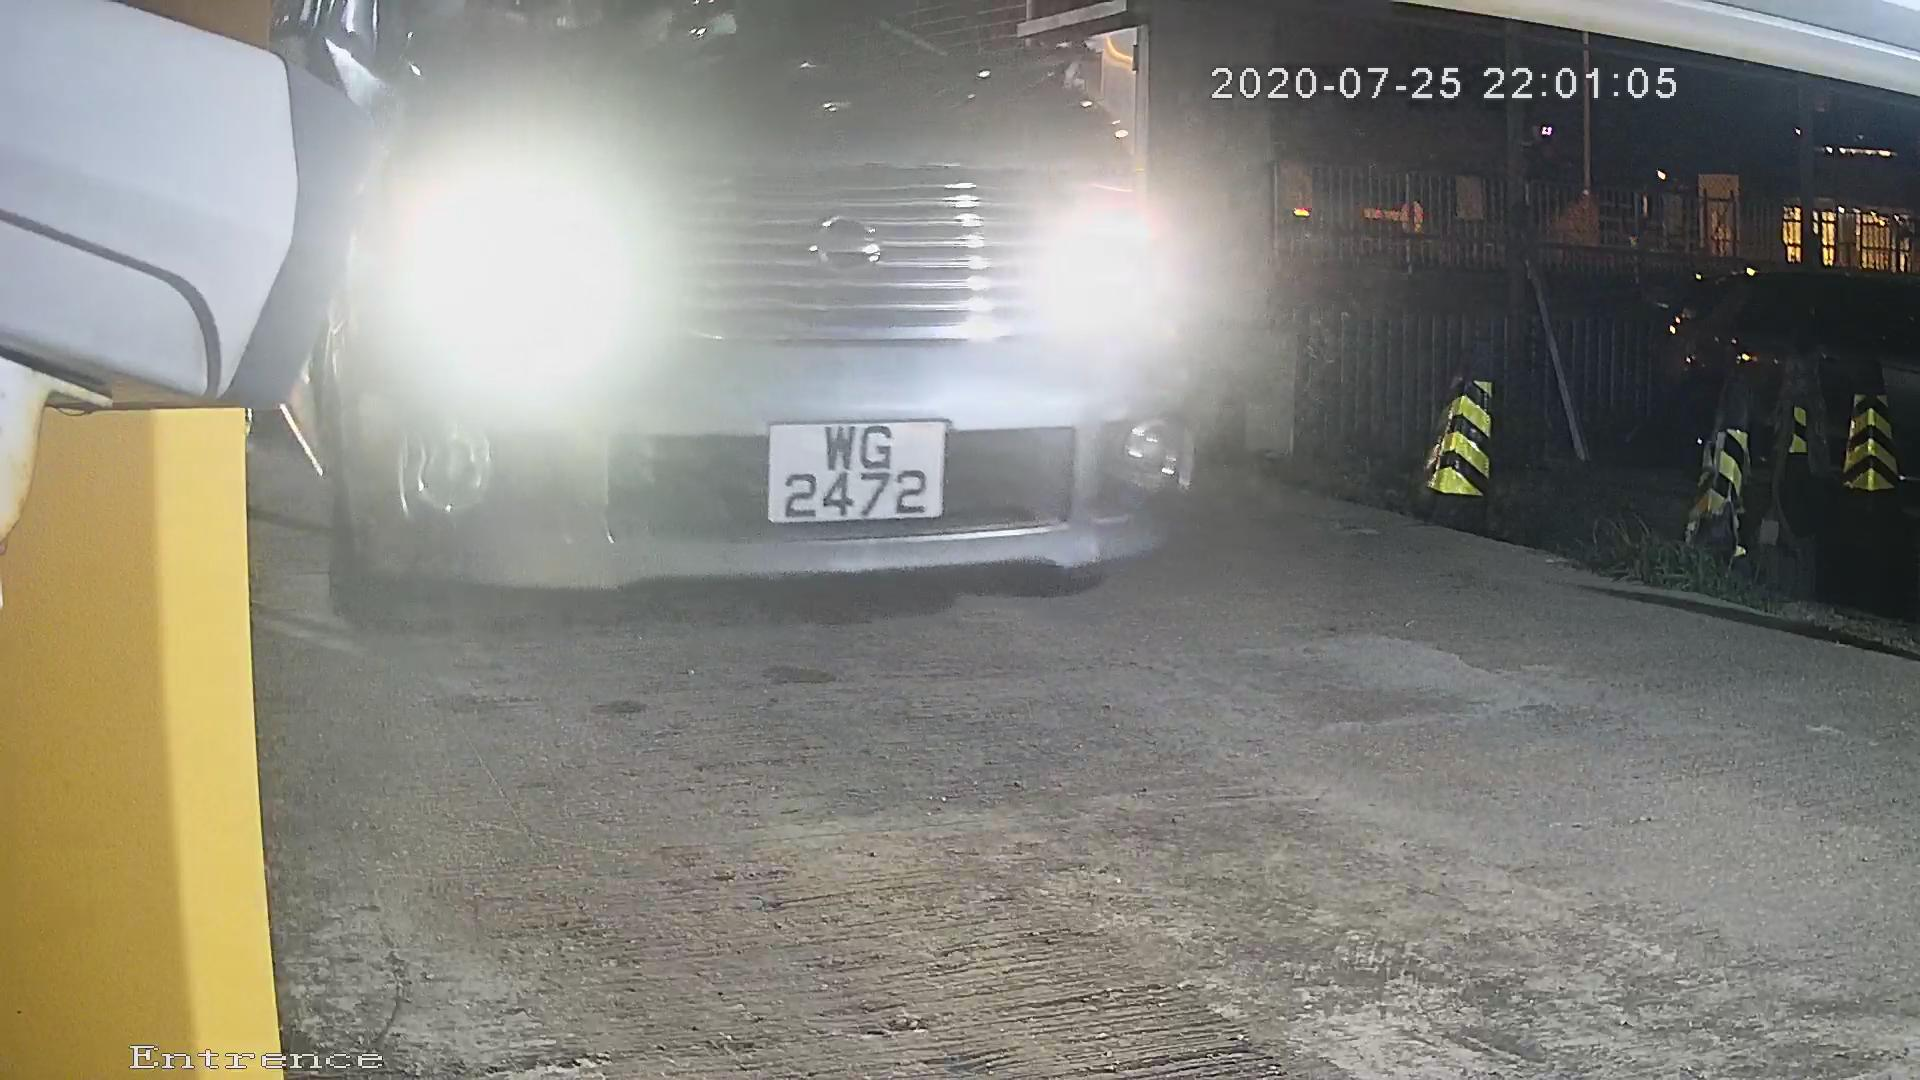Car: (52, 1, 1415, 671)
License Plate: (721, 401, 961, 541)
